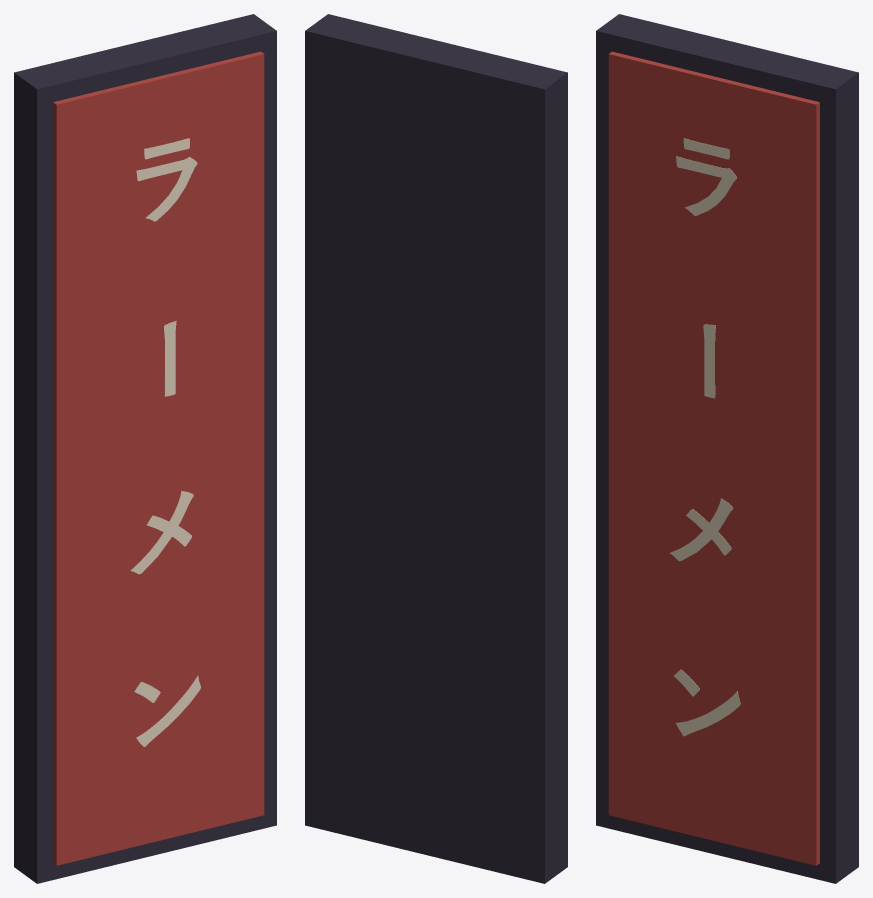
Rendered from SM_Sign_Ramen_Vertical.fbx.
The picture shows the model from 3 angles, left to right: view 1: azimuth 30°, elevation 25°; view 2: azimuth 150°, elevation 25°; view 3: azimuth 330°, elevation 25°; orthographic projection.
Visible parts, largest first — view 1: SM_Sign_Ramen_Vertical; view 2: SM_Sign_Ramen_Vertical; view 3: SM_Sign_Ramen_Vertical.
Boxes of the visible parts, x1,y1,x2,y2 form: SM_Sign_Ramen_Vertical: [14, 14, 276, 883]; SM_Sign_Ramen_Vertical: [305, 14, 567, 883]; SM_Sign_Ramen_Vertical: [596, 14, 858, 883].
Bounding box in the file's own units: 0.6 × 0.1424 × 1.9.
